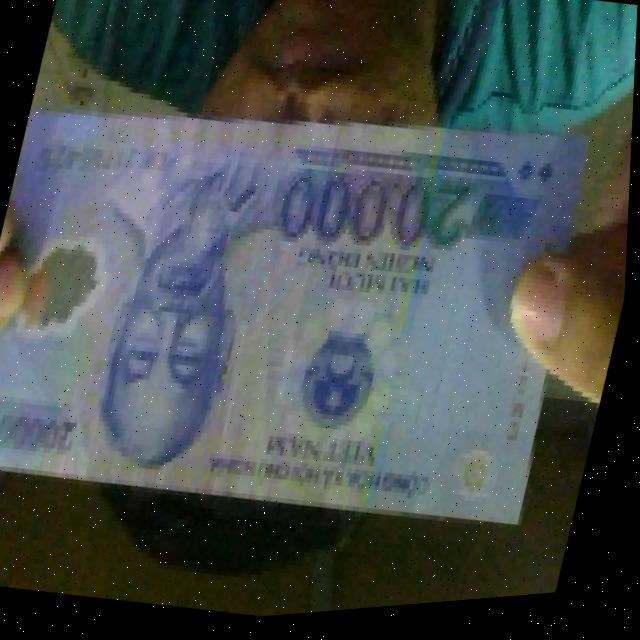20 000 VND: (0, 34, 620, 583)
